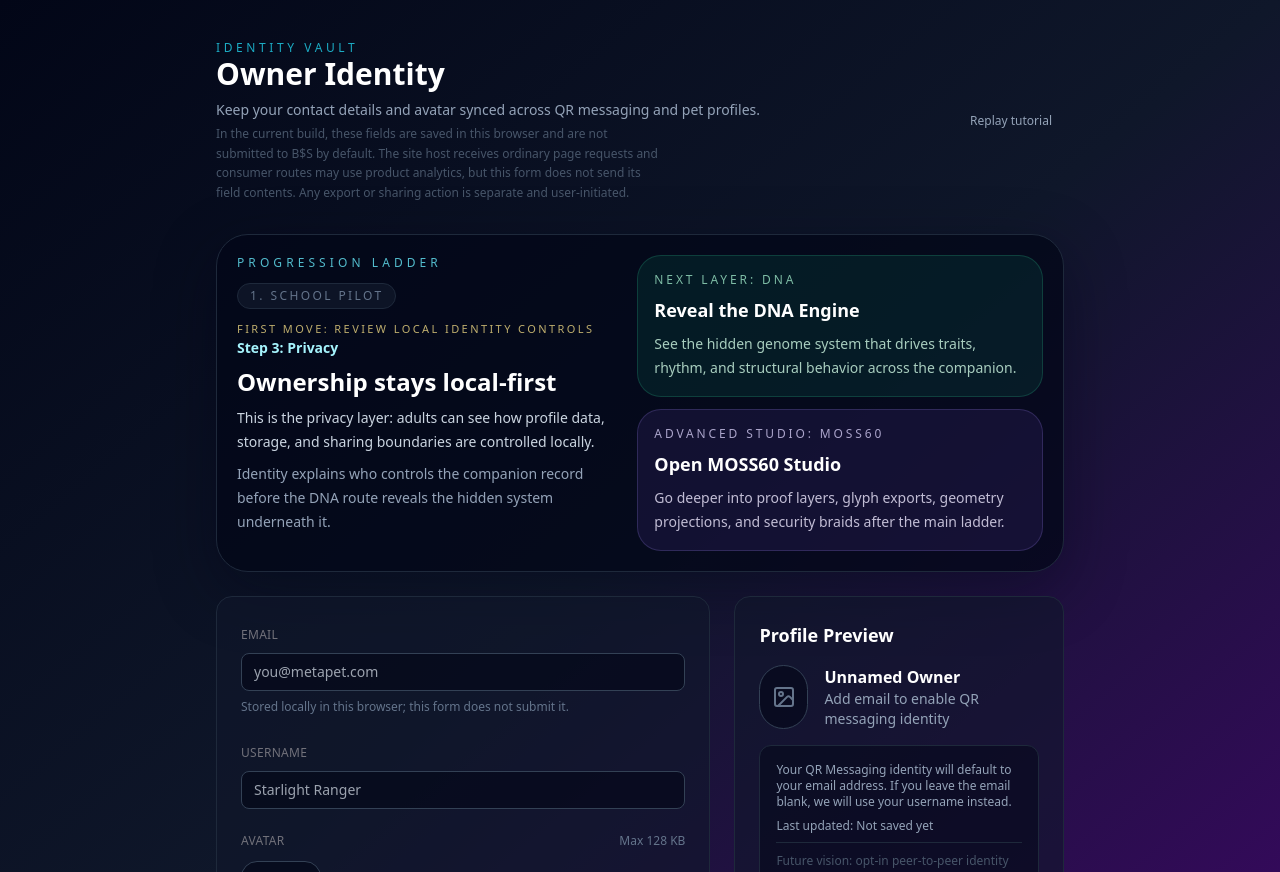
Test: IdentityPage › shows a forward CTA into DNA after a successful save
Step 1. Type "Signal Keeper" into the field with placeholder "Starlight Ranger" → (463, 790), box [241, 771, 685, 809]
(page scrolled)
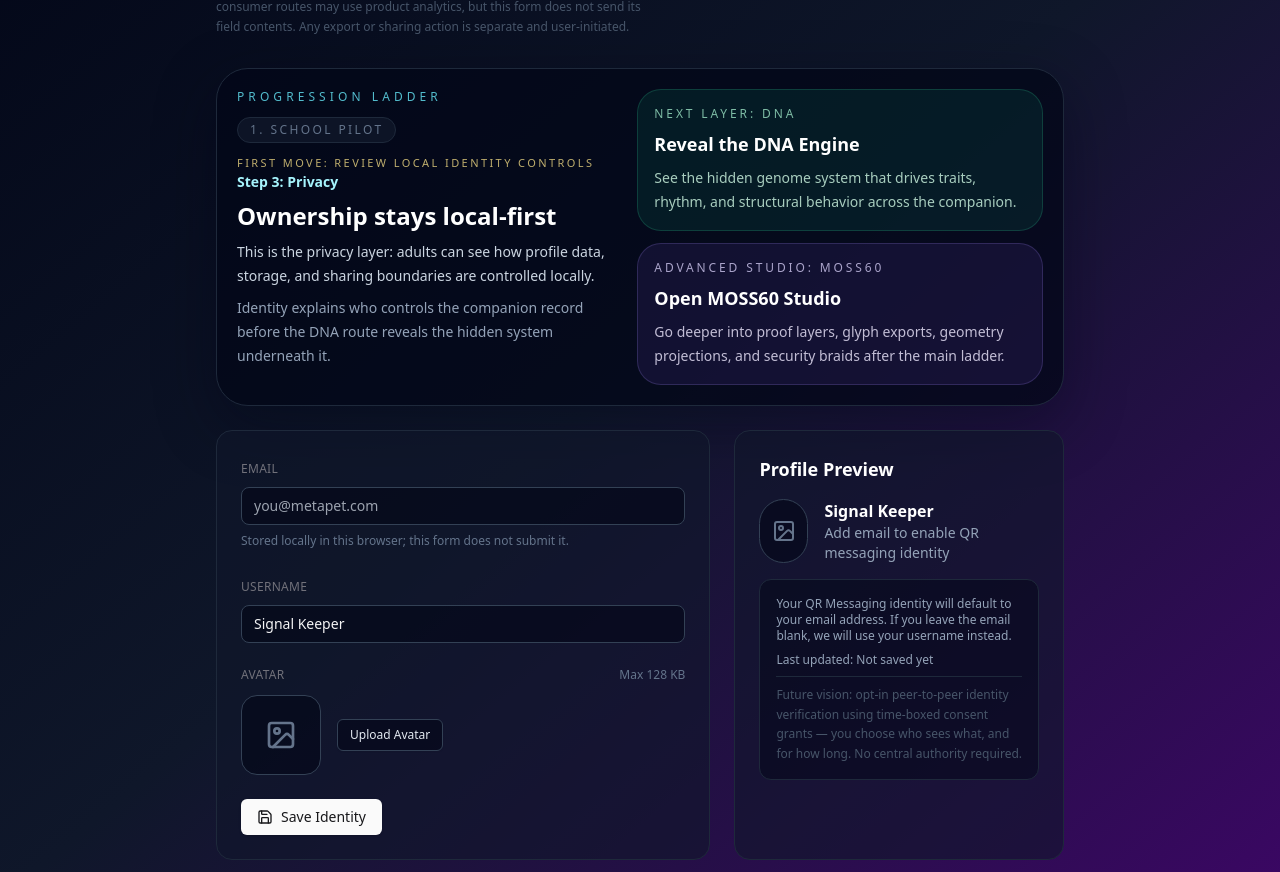
Step 2. Click the button "Save Identity" → (312, 817), box [241, 799, 382, 835]
(page scrolled)
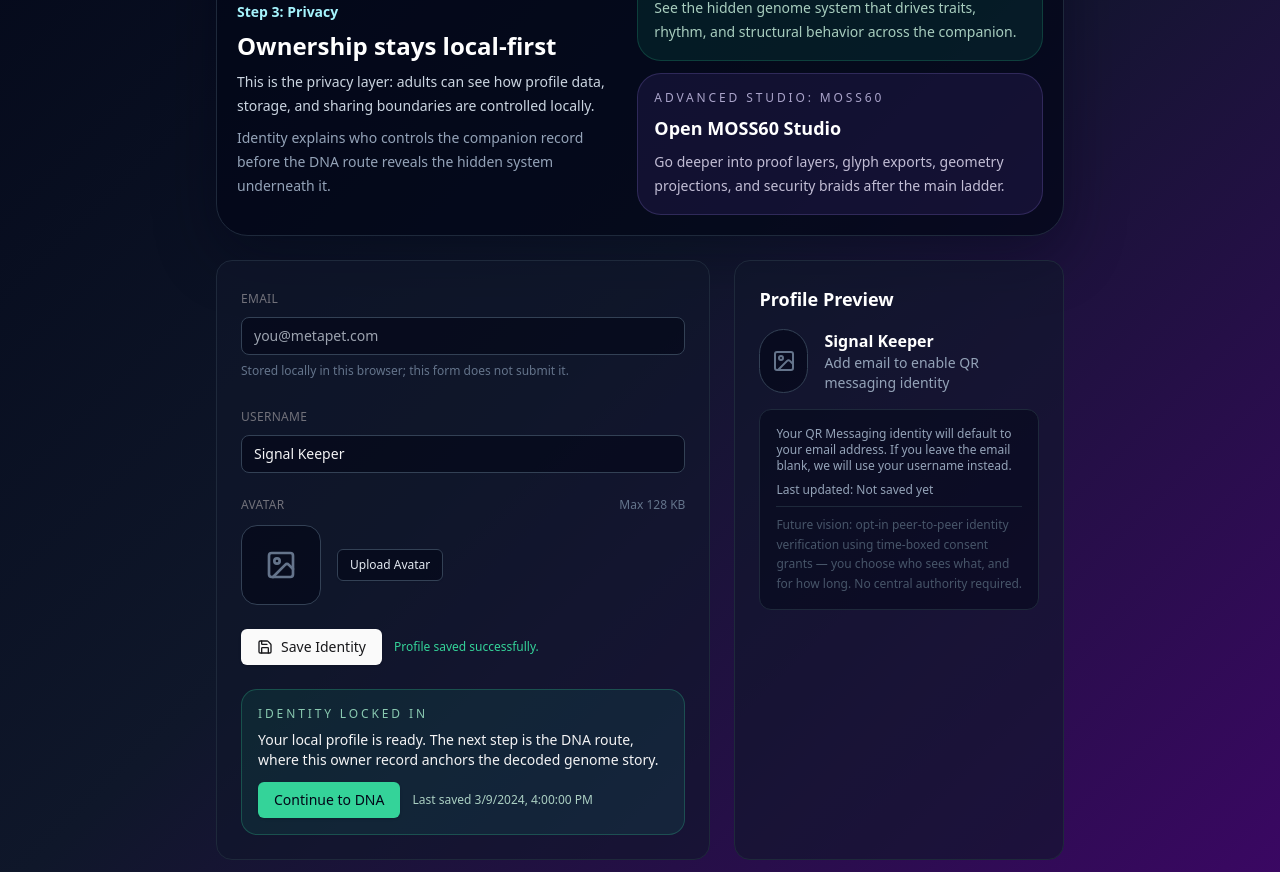
Now the link "Continue to DNA" is shown, box [258, 782, 400, 818]
